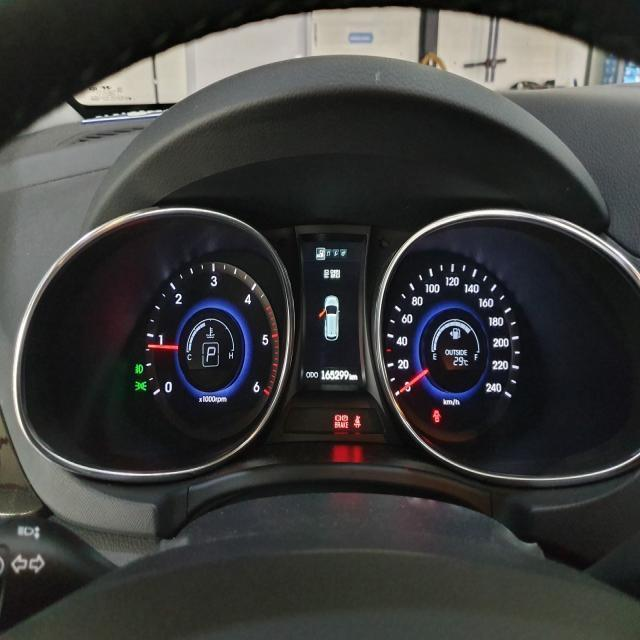Doors: (432, 408, 441, 422)
FrontFogLight: (134, 362, 142, 374)
SideLamp: (134, 378, 146, 391)
